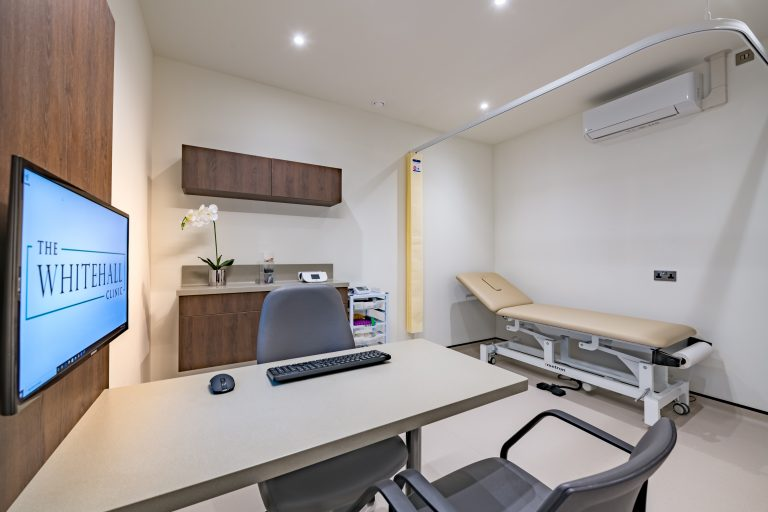TV: (1, 151, 130, 417)
cabinet: (177, 147, 343, 207)
chair: (252, 284, 406, 512), (395, 407, 679, 512), (207, 245, 238, 255)
counter: (186, 275, 365, 374)
countertop: (170, 273, 342, 289)
curtain: (403, 150, 433, 340)
exam_table: (451, 272, 715, 428)
keyboard: (262, 346, 394, 388)
mouse: (205, 371, 237, 398)
table: (13, 333, 531, 512)
